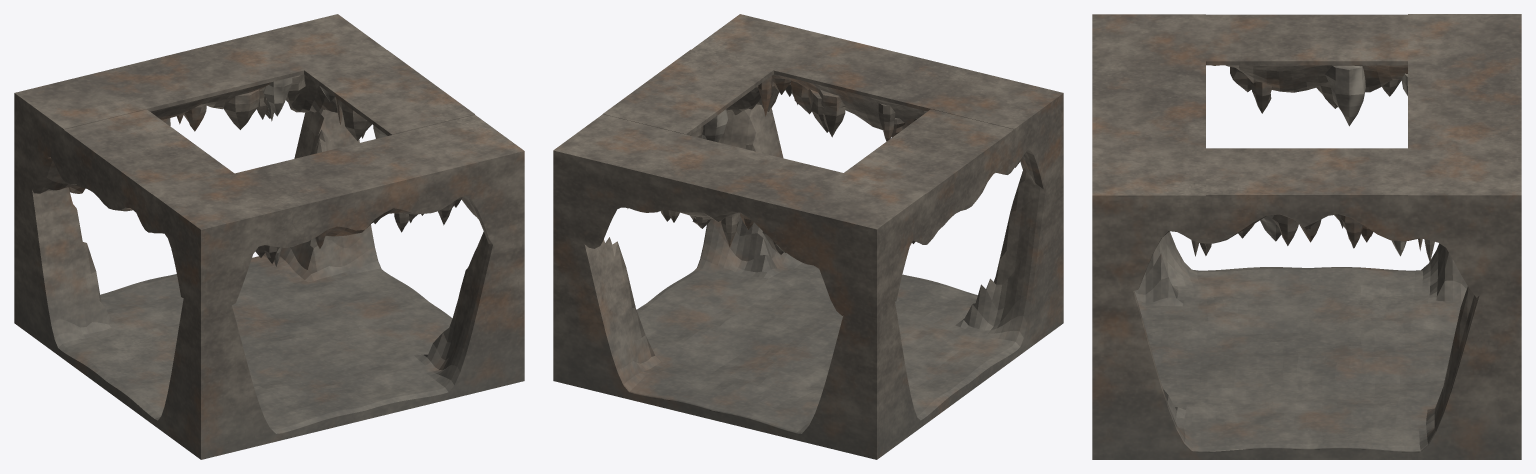
File: dungeon_cave_open.glb
3 views of the same model, side by side, from view 1: azimuth 30°, elevation 25°; view 2: azimuth 150°, elevation 25°; view 3: azimuth 270°, elevation 25° (orthographic). The views are drawn at different scales.
Parts seen in each view (by area): view 1: dungeon_cave_open; view 2: dungeon_cave_open; view 3: dungeon_cave_open.
Boxes of the visible parts, x1=… form: dungeon_cave_open: x1=14, y1=14, x2=524, y2=459; dungeon_cave_open: x1=553, y1=14, x2=1063, y2=459; dungeon_cave_open: x1=1092, y1=14, x2=1521, y2=459.
Size of the model in its own units: 5.05 by 3.44 by 5.05.
1 material, 1 textured.
